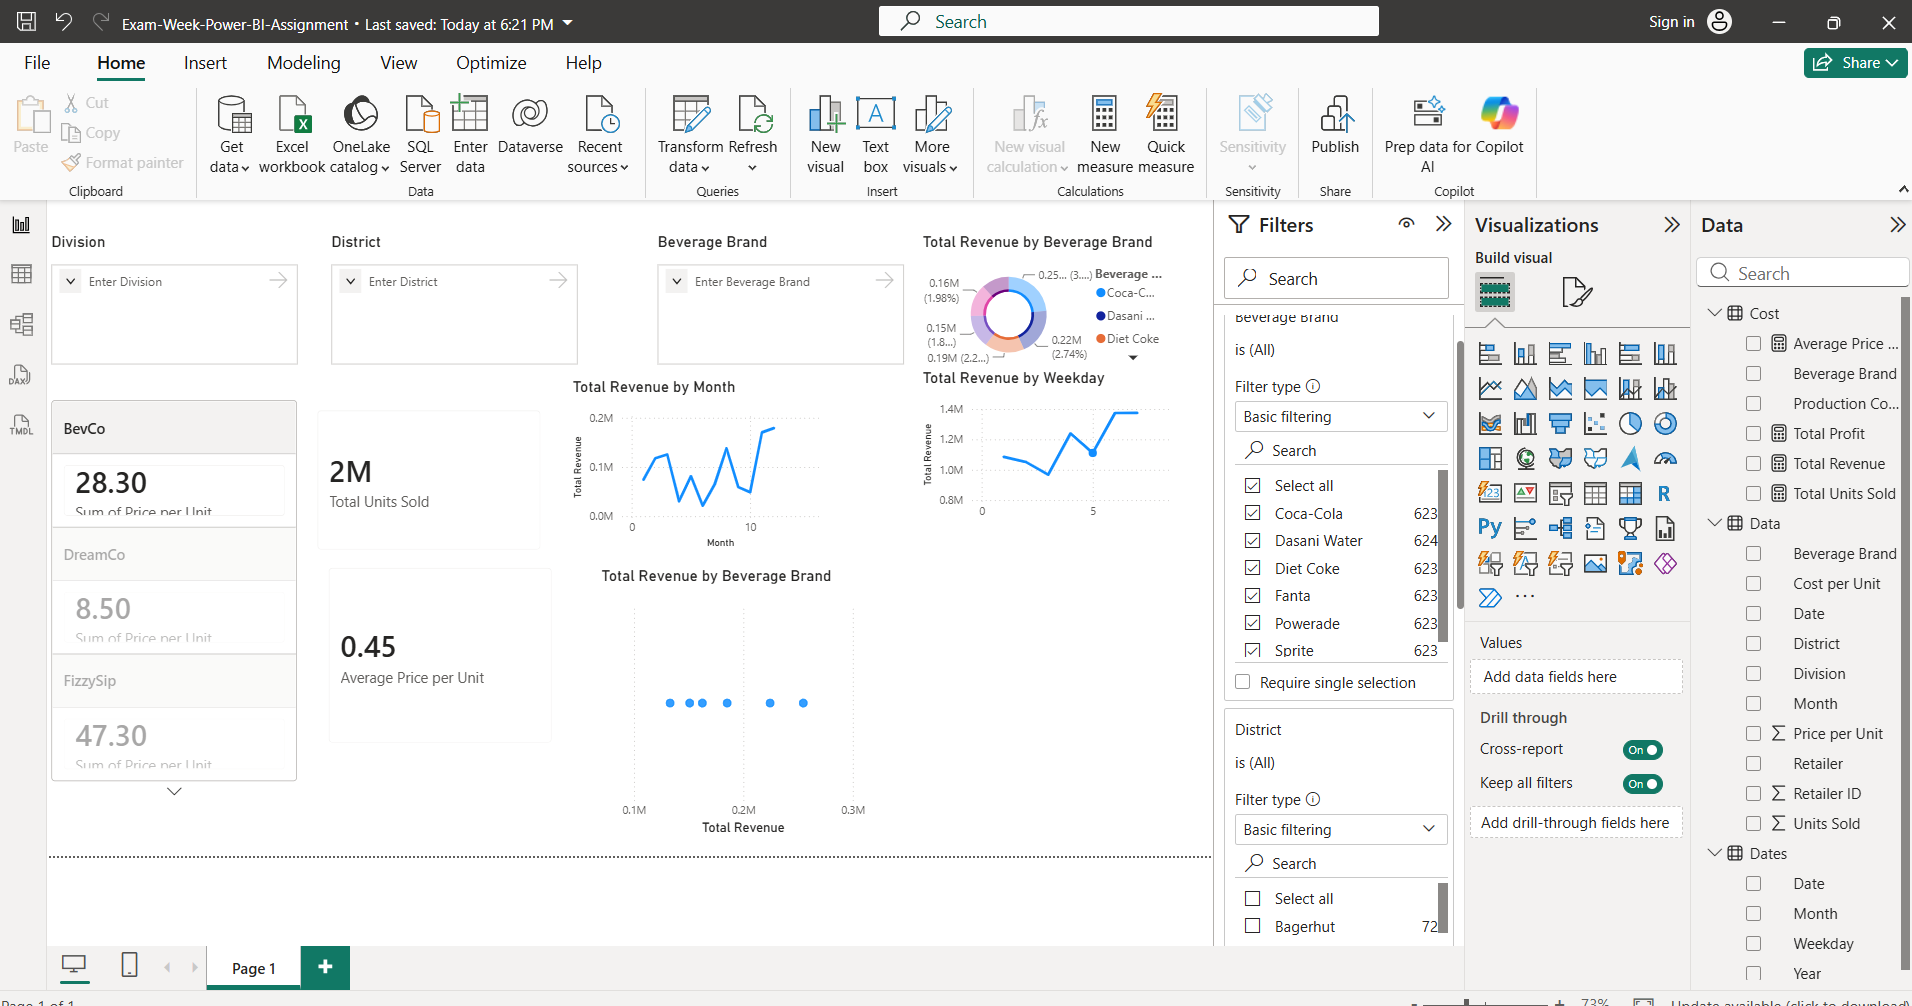

The dashboard page shown, as its layout file describes it:
{"tool":"powerbi","page":{"name":"Page 1","canvas":[1280,720],"ordinal":0},"visuals":[{"type":"textSlicer","fields":{"Values":["Data.Division"]},"box":[0,35.7,279.9,149.6],"z":0},{"type":"textSlicer","fields":{"Values":["Data.Beverage Brand"]},"box":[665.5,35.7,279.9,149.6],"z":1},{"type":"textSlicer","fields":{"Values":["Data.District"]},"box":[307.4,35.7,280,150],"z":2},{"type":"cardVisual","fields":{"Data":["Sum(Data.Price per Unit)"],"Rows":["Data.Retailer"]},"box":[0,194.9,279.9,469.3],"z":3},{"type":"cardVisual","fields":{"Data":["Cost.Total Units Sold"]},"box":[279.9,214.1,279.9,188],"z":4},{"type":"cardVisual","fields":{"Data":["Cost.Average Price per Unit"]},"box":[292.3,387,279.9,226.4],"z":5},{"type":"lineChart","fields":{"Y":["Cost.Total Revenue"],"Category":["Dates.Month"]},"box":[572.2,194.9,279.9,192.1],"z":6},{"type":"lineChart","fields":{"Category":["Dates.Weekday"],"Y":["Cost.Total Revenue"]},"box":[956.4,185.2,279.9,174.3],"z":7},{"type":"donutChart","fields":{"Category":["Data.Beverage Brand"],"Y":["Cost.Total Revenue"]},"box":[956,36,280,150],"z":8},{"type":"scatterChart","fields":{"Category":["Data.Beverage Brand"],"X":["Cost.Total Revenue"]},"box":[603.8,402.1,300,300],"z":9}]}

Visuals, with their boxes on the page's 1280x720 design canvas (x1, y1, x2, y2). These are canvas units, not pixel positions in the 1912x1006 screenshot, which may show the page scaled, cropped or inside an application window:
textSlicer - Data.Division: [0, 36, 280, 185]
textSlicer - Data.Beverage Brand: [666, 36, 945, 185]
textSlicer - Data.District: [307, 36, 587, 186]
cardVisual - Sum(Data.Price per Unit) x Data.Retailer: [0, 195, 280, 664]
cardVisual - Cost.Total Units Sold: [280, 214, 560, 402]
cardVisual - Cost.Average Price per Unit: [292, 387, 572, 613]
lineChart - Cost.Total Revenue x Dates.Month: [572, 195, 852, 387]
lineChart - Dates.Weekday x Cost.Total Revenue: [956, 185, 1236, 360]
donutChart - Data.Beverage Brand x Cost.Total Revenue: [956, 36, 1236, 186]
scatterChart - Data.Beverage Brand x Cost.Total Revenue: [604, 402, 904, 702]
